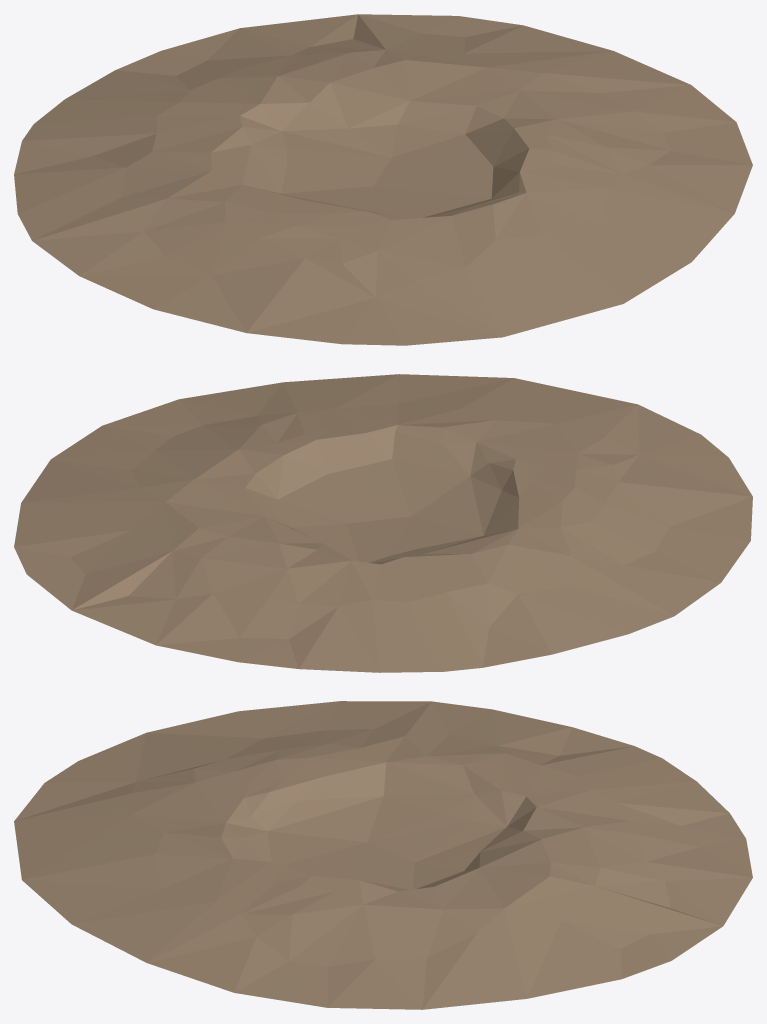
Rendered from SM_Env_Ground_Oasis_01.glb.
The picture shows the model from 3 angles, top to bottom: view 1: azimuth 30°, elevation 25°; view 2: azimuth 150°, elevation 25°; view 3: azimuth 270°, elevation 25°; orthographic projection. The views are drawn at different scales.
Visible parts, largest first — view 1: SM_Env_Ground_Oasis_01; view 2: SM_Env_Ground_Oasis_01; view 3: SM_Env_Ground_Oasis_01.
Boxes of the visible parts, x1,y1,x2,y2 form: SM_Env_Ground_Oasis_01: (14,14,752,345); SM_Env_Ground_Oasis_01: (14,374,752,672); SM_Env_Ground_Oasis_01: (14,701,752,1009).
Size of the model in its own units: 28.89 by 1.35 by 29.23.
1 material, 1 textured.
